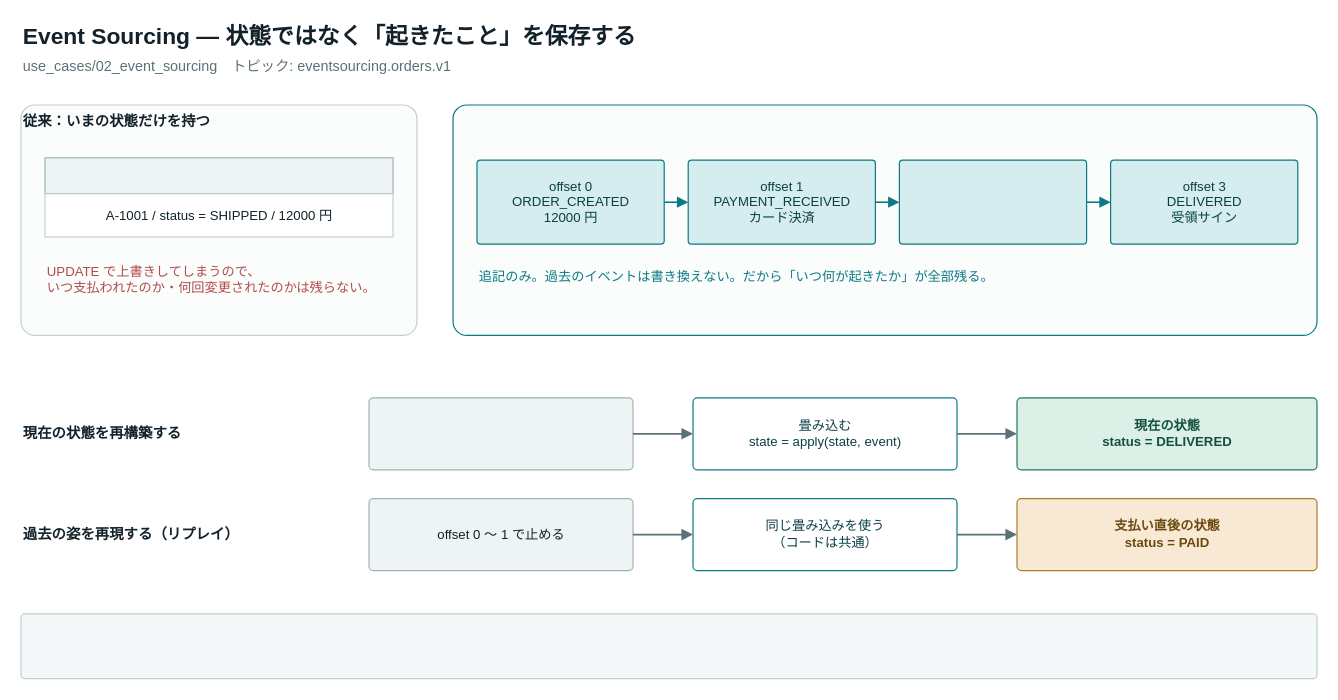
Image size: 1338x700. Some labels were removed from this diagram. The box of each missing label's shape, as (x1, y1, x2, y2) in pixels:
offset 0 〜 3 を全部読む: (368, 397, 633, 470)
offset 2 SHIPPED 伝票 1234: (898, 159, 1087, 244)
orders テーブル: (44, 157, 393, 194)
「いまの状態」はイベントを畳み込んだ結果にすぎない。どこで止めるかを変えるだけで、過去の任意の時点を復元できる。: (20, 613, 1317, 679)
イベントソーシング：起きたことを追記していく: (452, 104, 1317, 335)
